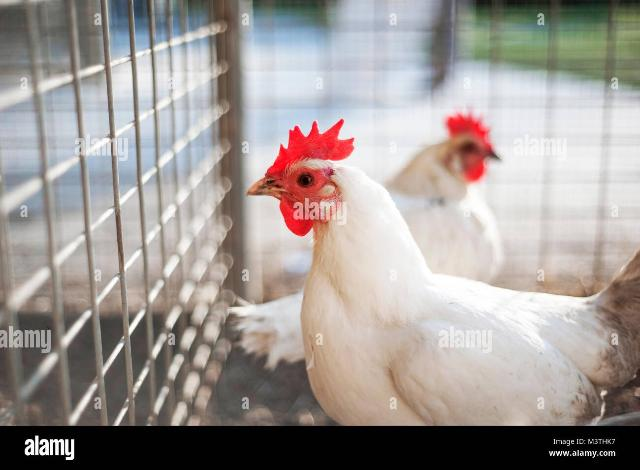Chicken: (247, 117, 640, 425), (227, 103, 503, 370)
